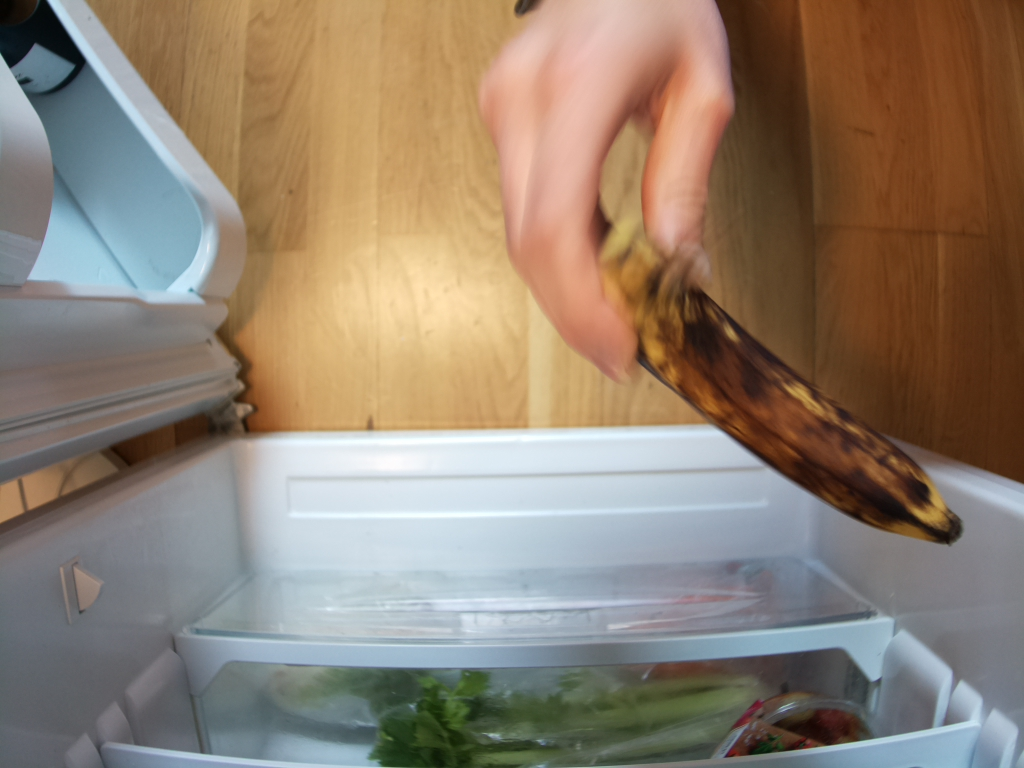banana-overripe: (598, 219, 961, 545)
